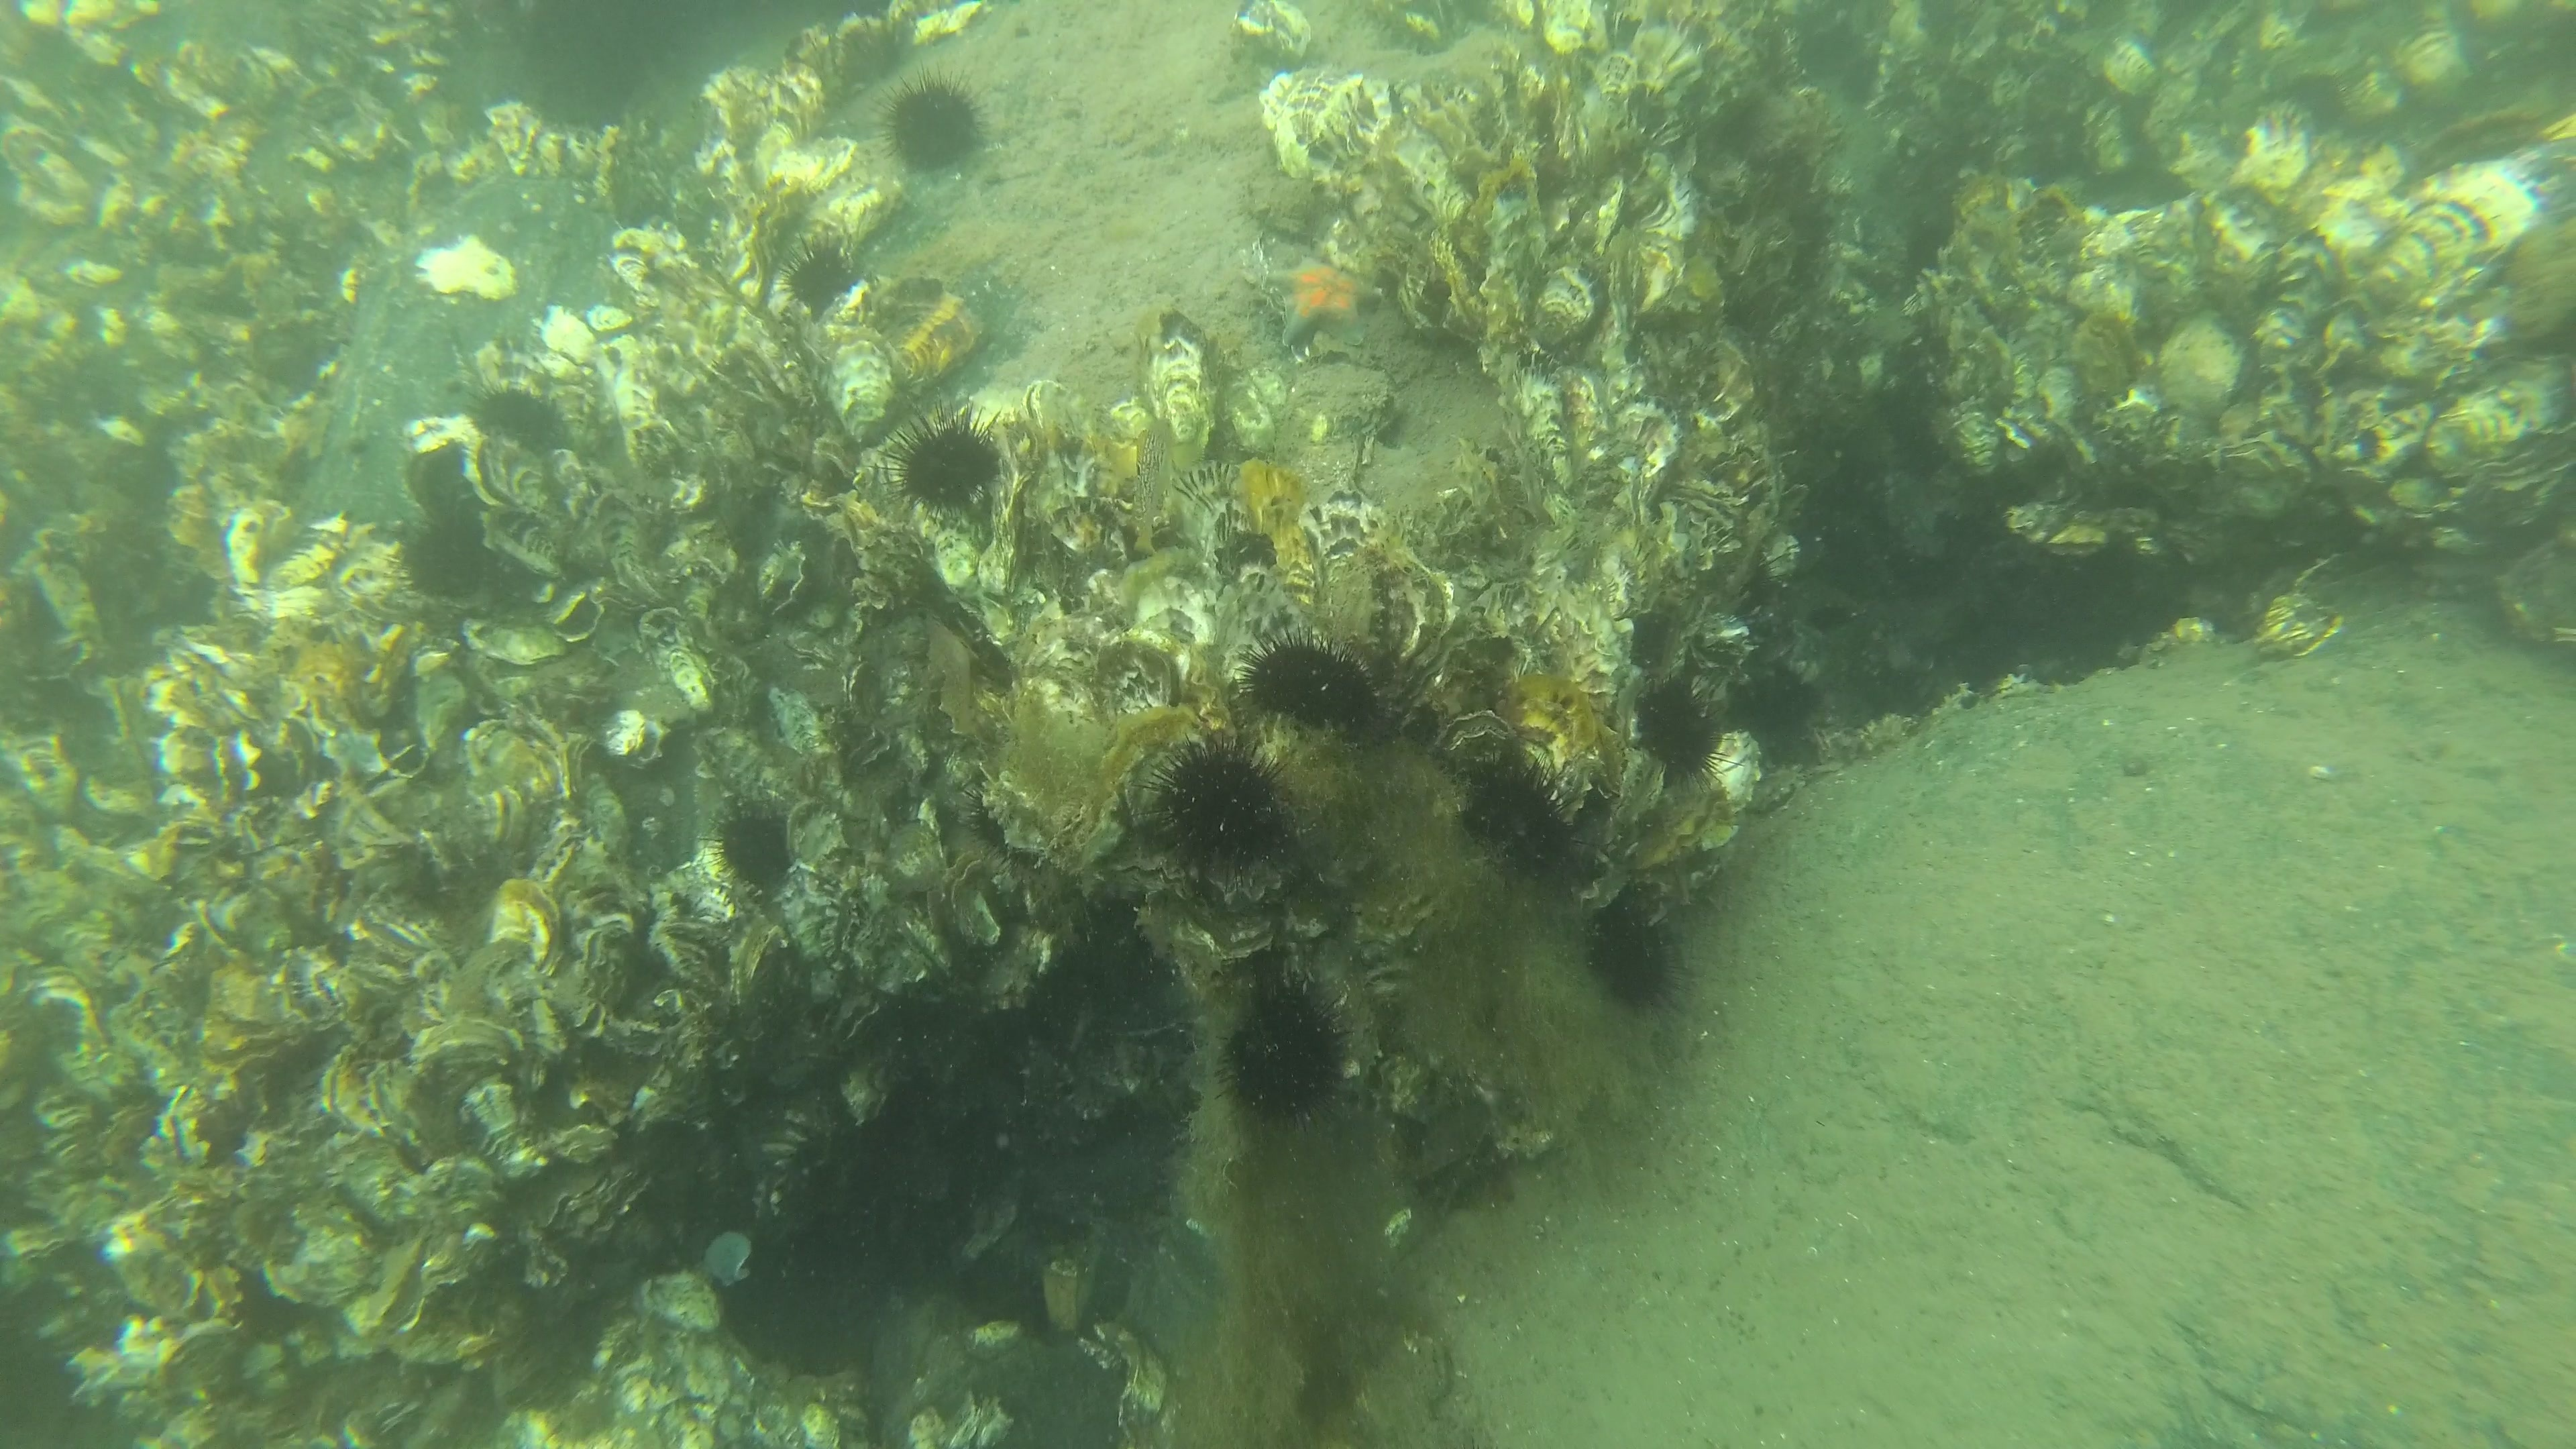echinus: (1141, 732, 1307, 901), (1215, 980, 1373, 1145), (1454, 738, 1585, 893), (1580, 870, 1709, 1024), (1235, 623, 1391, 740), (885, 403, 1019, 520), (1629, 669, 1741, 805), (870, 71, 1001, 182), (403, 495, 508, 605), (708, 794, 798, 904), (778, 225, 872, 320), (471, 377, 577, 460)
starfish: (1258, 253, 1391, 357)
